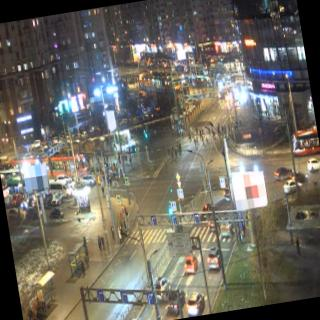large-vehicle: (45, 148, 92, 180), (288, 122, 320, 158)
small-vehicle: (167, 286, 188, 316), (186, 289, 206, 317), (152, 272, 172, 300), (206, 246, 226, 274), (218, 216, 236, 242), (273, 160, 294, 182), (24, 204, 43, 224), (288, 167, 309, 185), (184, 253, 200, 275), (284, 177, 304, 194), (208, 214, 225, 233), (223, 185, 240, 202), (32, 190, 47, 207), (42, 190, 54, 210), (306, 156, 320, 173), (80, 173, 97, 187), (29, 137, 44, 152), (6, 206, 20, 221), (202, 204, 215, 220), (48, 206, 65, 218), (50, 192, 64, 206), (20, 194, 32, 210), (58, 172, 72, 185), (10, 192, 22, 207), (4, 192, 14, 208), (130, 313, 146, 320), (318, 164, 320, 177)
